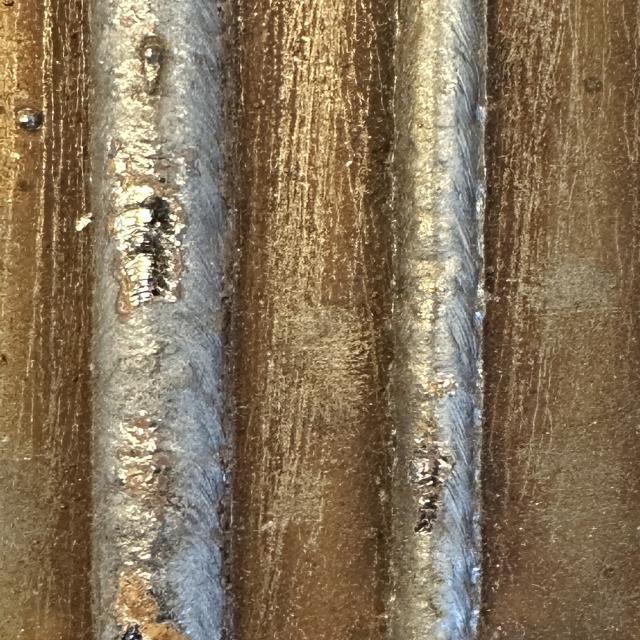Spatters: (0, 354, 8, 364), (371, 292, 377, 298)
